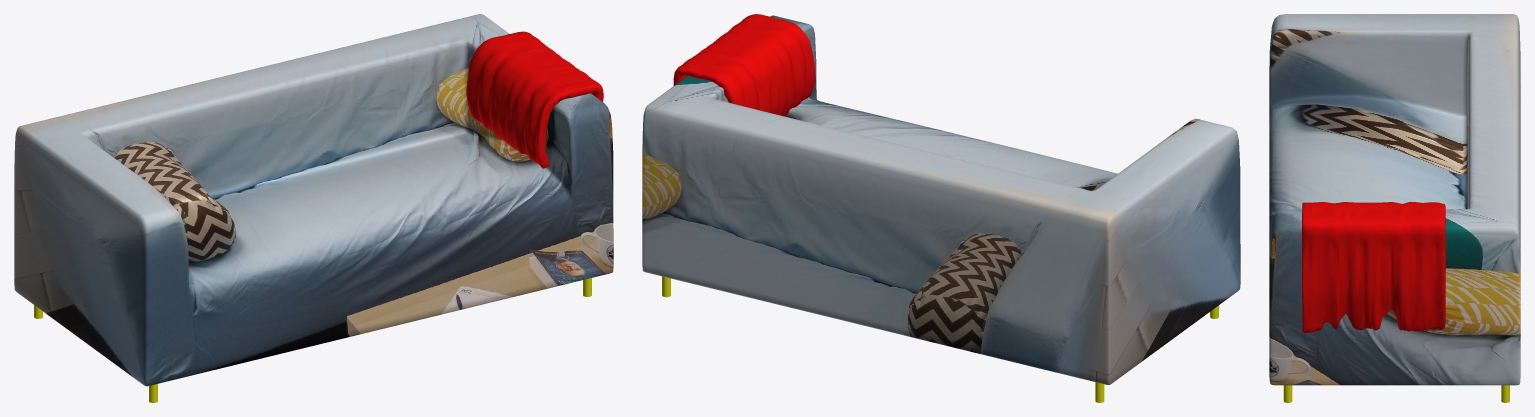
File: thorkea_sofas_grp.fbx
3 renders of one model, left to right at view 1: azimuth 30°, elevation 25°; view 2: azimuth 150°, elevation 25°; view 3: azimuth 270°, elevation 25°, orthographic. The views are drawn at different scales.
Parts seen in each view (by area): view 1: thorkea_sofa_1, thorkea_sofa_blanket_1; view 2: thorkea_sofa_1, thorkea_sofa_blanket_1; view 3: thorkea_sofa_1, thorkea_sofa_blanket_1.
Part boxes in pixels (x1,y1,x2,y2): thorkea_sofa_1: [14, 14, 613, 402]; thorkea_sofa_blanket_1: [466, 31, 603, 168]; thorkea_sofa_1: [642, 15, 1240, 402]; thorkea_sofa_blanket_1: [673, 14, 814, 116]; thorkea_sofa_1: [1269, 14, 1520, 402]; thorkea_sofa_blanket_1: [1302, 202, 1445, 332].
Size of the model in its own units: 183 by 73.43 by 87.86.
3 materials, 1 textured.
